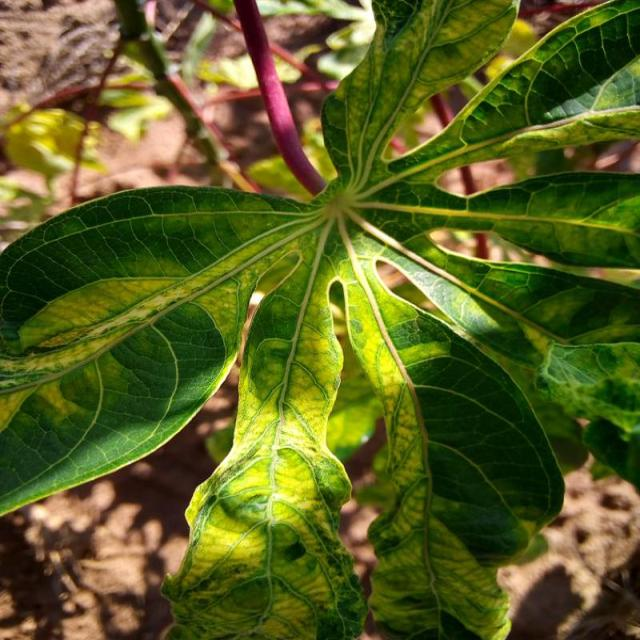cassava leaf: (1, 0, 638, 638), (159, 228, 368, 638)
